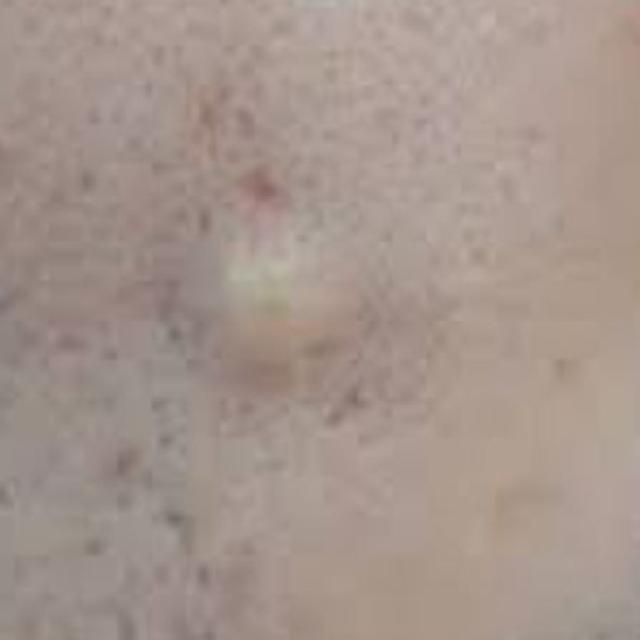nodule: (159, 159, 422, 412)
